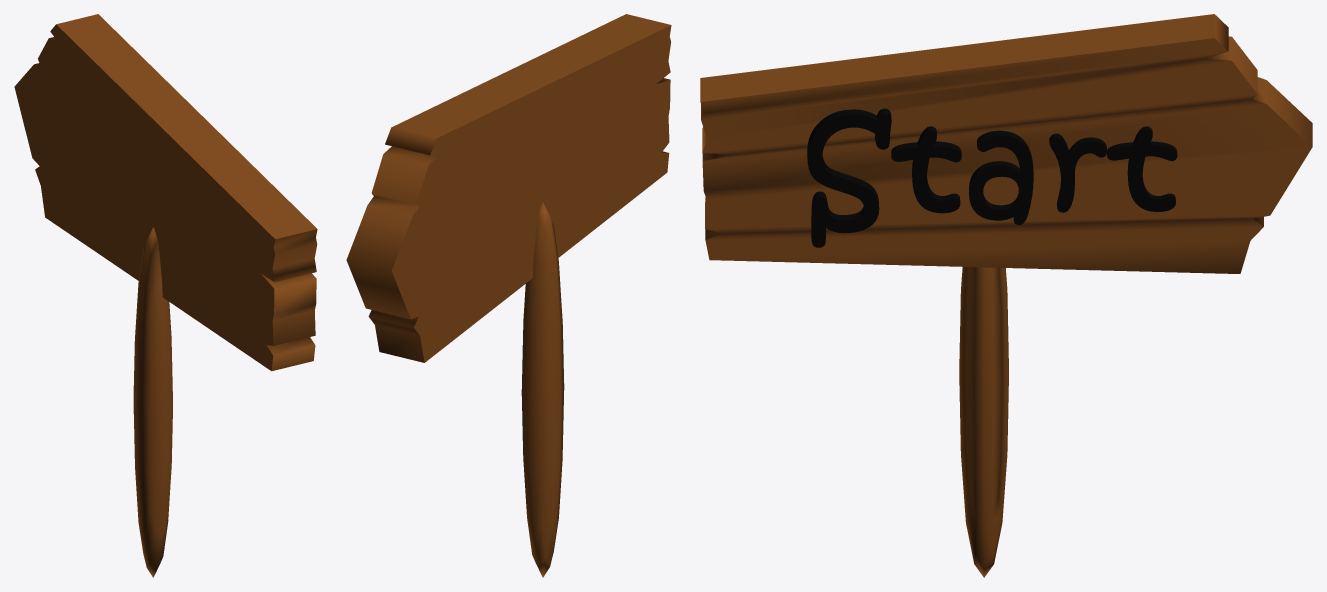
File: Sign Start.fbx
The picture shows the model from 3 angles, left to right: view 1: azimuth 30°, elevation 25°; view 2: azimuth 150°, elevation 25°; view 3: azimuth 270°, elevation 25°; orthographic projection. The views are drawn at different scales.
Visible parts, largest first — view 1: StartSign; view 2: StartSign; view 3: StartSign.
Part boxes in pixels (bbox=[...]): StartSign: bbox=[14, 14, 317, 577]; StartSign: bbox=[346, 14, 671, 577]; StartSign: bbox=[700, 14, 1312, 577].
Bounding box in the file's own units: 0.8021 × 5.32 × 5.22.
